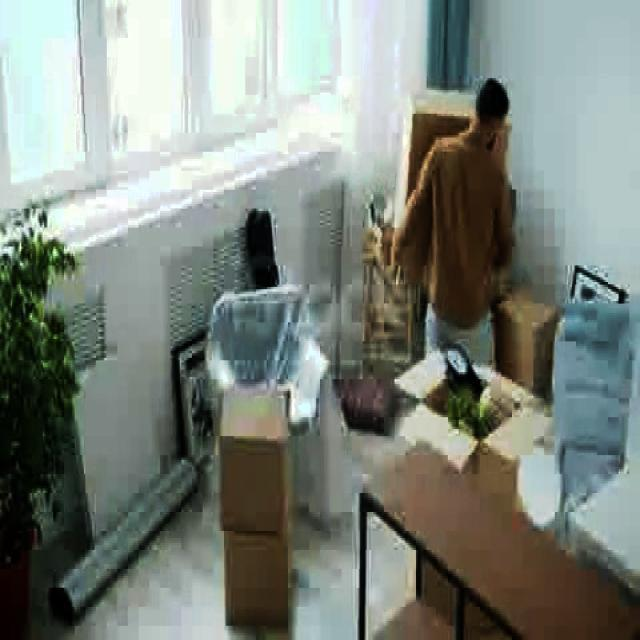Box: (221, 377, 295, 533), (225, 533, 296, 628)
